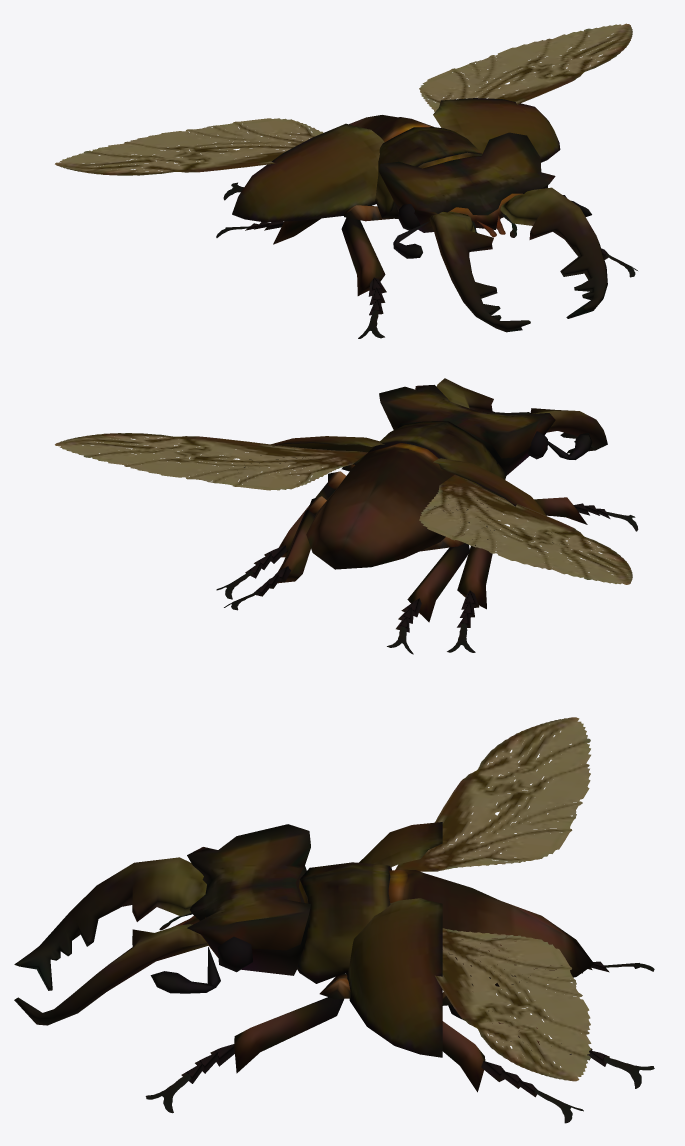
Rendered from miyama-stag.glb.
3 renders of one model, top to bottom at view 1: azimuth 30°, elevation 25°; view 2: azimuth 150°, elevation 25°; view 3: azimuth 270°, elevation 25°, orthographic. The views are drawn at different scales.
Bounding box in the file's own units: 7.3 × 1.44 × 4.87.
Materials: 2 (2 with a texture image).
